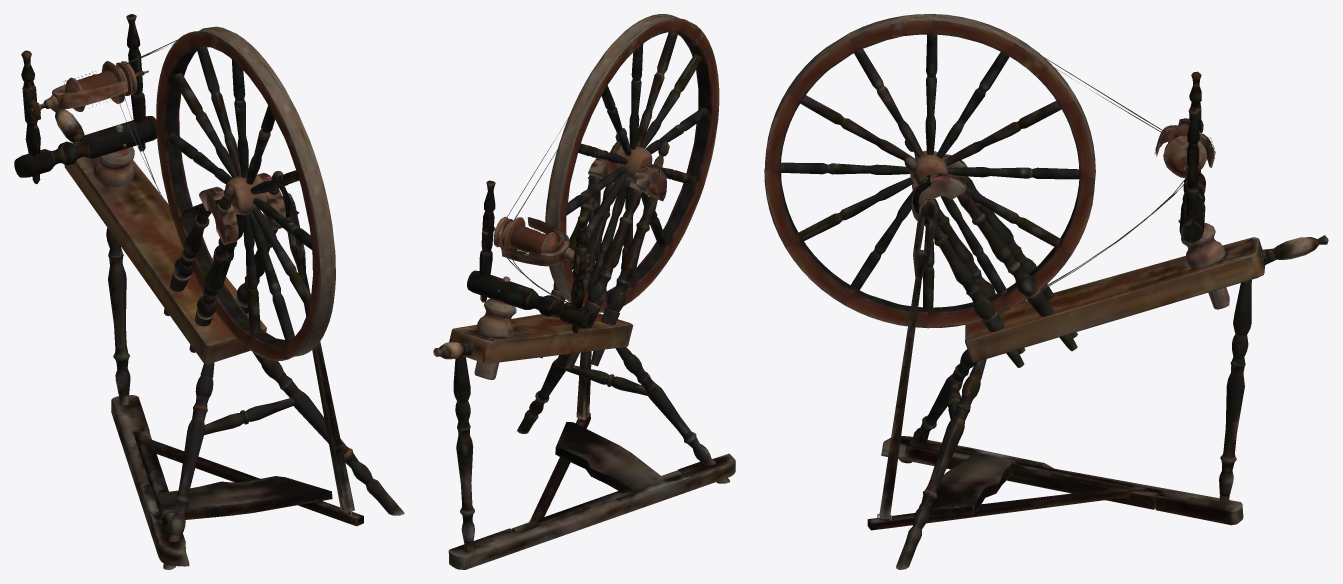
The model's file is design-spinning-wheel-01.glb.
The picture shows the model from 3 angles, left to right: view 1: azimuth 30°, elevation 25°; view 2: azimuth 150°, elevation 25°; view 3: azimuth 270°, elevation 25°; orthographic projection. The views are drawn at different scales.
Visible parts, largest first — view 1: spinning_wheel_01; view 2: spinning_wheel_01; view 3: spinning_wheel_01.
Part boxes in pixels (x1,y1,x2,y2): spinning_wheel_01: (14, 14, 404, 569); spinning_wheel_01: (433, 14, 735, 569); spinning_wheel_01: (764, 14, 1328, 569).
Bounding box in the file's own units: 0.4893 × 0.9656 × 1.02.
1 material, 1 textured.
